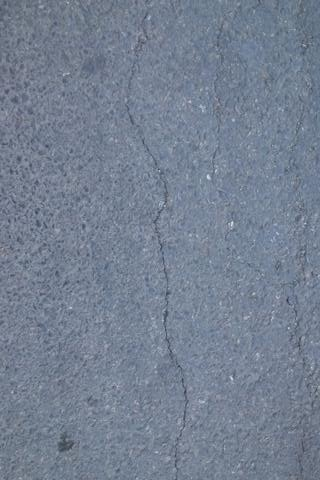A: (121, 10, 192, 479), (208, 12, 234, 206)
